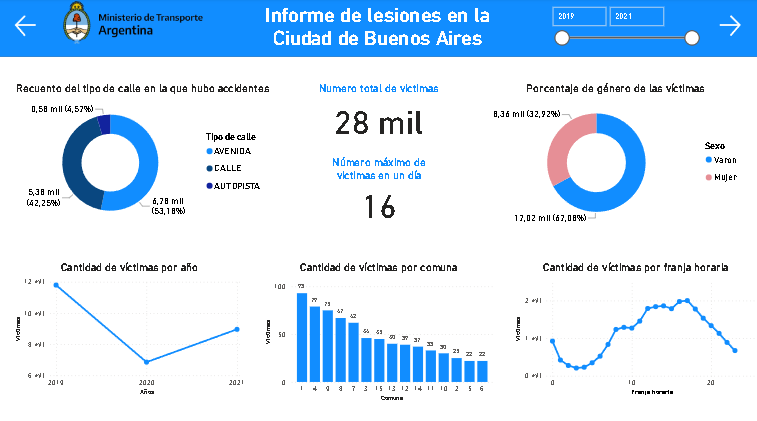

This screenshot's page, from the dashboard's own definition file:
{"tool":"powerbi","page":{"name":"Informe Lesiones","canvas":[1280,720],"ordinal":2},"visuals":[{"type":"shape","box":[0,0,1280.9,98.5],"z":0},{"type":"shape","box":[110.9,18.7,41.8,53.3],"z":1000},{"type":"image","box":[86.4,0,280.8,82.1],"z":2000},{"type":"donutChart","title":"Recuento del tipo de calle en la que hubo accidentes","fields":{"Category":["HECHOS_LESIONES.tipo_calle"],"Y":["CountNonNull(HECHOS_LESIONES.tipo_calle)"]},"box":[23.5,141.2,438.2,250],"z":3000},{"type":"textbox","box":[398.9,4.3,479.5,105.1],"z":5000},{"type":"slicer","fields":{"Values":["HECHOS_LESIONES.aaaa"]},"box":[918.7,4.3,267.8,82.1],"z":6000},{"type":"lineChart","title":"Cantidad de víctimas por año","fields":{"Category":["HECHOS_LESIONES.aaaa"],"Y":["Sum(HECHOS_LESIONES.n_victimas)"]},"box":[23.2,441.4,394.9,230.3],"z":7000},{"type":"lineChart","title":"Cantidad de víctimas por franja horaria","fields":{"Category":["HECHOS_LESIONES.franja_hora"],"Y":["Sum(HECHOS_LESIONES.n_victimas)"]},"box":[863.2,441.2,416.2,230.9],"z":9000},{"type":"clusteredColumnChart","title":"Cantidad de víctimas por comuna","fields":{"Category":["HECHOS_HOMICIDIOS.COMUNA"],"Y":["Sum(HECHOS_HOMICIDIOS.N_VICTIMAS)"]},"box":[442.6,441.2,392.6,241.2],"z":10000},{"type":"actionButton","box":[1206.7,23,49,46.1],"z":11000},{"type":"actionButton","box":[23,23,53.3,46.1],"z":12000},{"type":"donutChart","title":"Porcentaje de género de las víctimas","fields":{"Category":["VICTIMAS_LESIONES.SEXO"],"Y":["CountNonNull(VICTIMAS_LESIONES.SEXO)"]},"box":[817.6,141.2,438.2,250],"z":13000},{"type":"card","title":"Numero total de victimas","fields":{"Values":["Sum(HECHOS_LESIONES.n_victimas)"]},"box":[520.6,141.2,236.8,102.9],"z":13001},{"type":"card","title":"Número máximo de victimas en un día","fields":{"Values":["Max(HECHOS_LESIONES.n_victimas)"]},"box":[547.1,266.2,185.3,113.2],"z":13002}]}

Visuals, with their boxes in screenshot pixels (x1, y1, x2, y2), scaled from the page's 1280x720 canvas onto the 757x421 screenshot:
shape: {"left": 0, "top": 0, "right": 756, "bottom": 58}
shape: {"left": 66, "top": 11, "right": 90, "bottom": 42}
image: {"left": 51, "top": 0, "right": 217, "bottom": 48}
"Recuento del tipo de calle en la que hubo accidentes" donutChart: {"left": 14, "top": 83, "right": 273, "bottom": 229}
textbox: {"left": 236, "top": 3, "right": 519, "bottom": 64}
slicer - HECHOS_LESIONES.aaaa: {"left": 543, "top": 3, "right": 702, "bottom": 51}
"Cantidad de víctimas por año" lineChart: {"left": 14, "top": 258, "right": 247, "bottom": 393}
"Cantidad de víctimas por franja horaria" lineChart: {"left": 511, "top": 258, "right": 756, "bottom": 393}
"Cantidad de víctimas por comuna" clusteredColumnChart: {"left": 262, "top": 258, "right": 494, "bottom": 399}
actionButton: {"left": 714, "top": 13, "right": 743, "bottom": 40}
actionButton: {"left": 14, "top": 13, "right": 45, "bottom": 40}
"Porcentaje de género de las víctimas" donutChart: {"left": 484, "top": 83, "right": 743, "bottom": 229}
"Numero total de victimas" card: {"left": 308, "top": 83, "right": 448, "bottom": 143}
"Número máximo de victimas en un día" card: {"left": 324, "top": 156, "right": 433, "bottom": 222}
